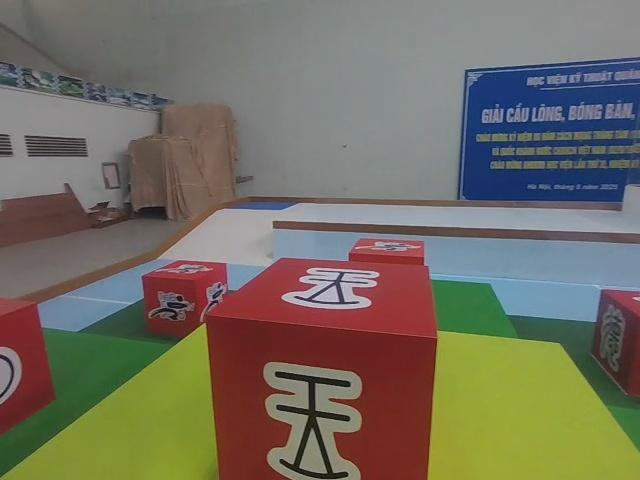R1: (139, 256, 230, 338)
R2 Fake: (587, 285, 640, 399)
R2 Real: (205, 254, 436, 480)
